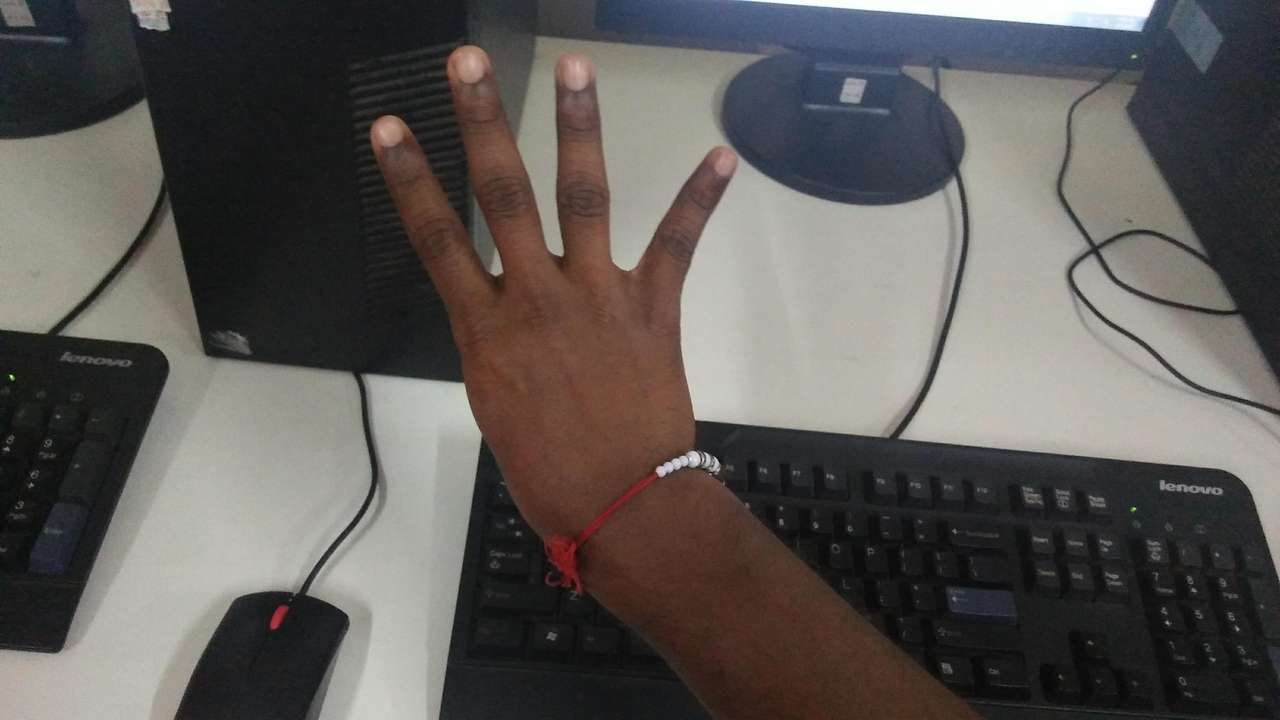fingertip: (682, 130, 752, 190), (356, 104, 422, 164), (436, 40, 500, 94), (546, 44, 606, 100)
